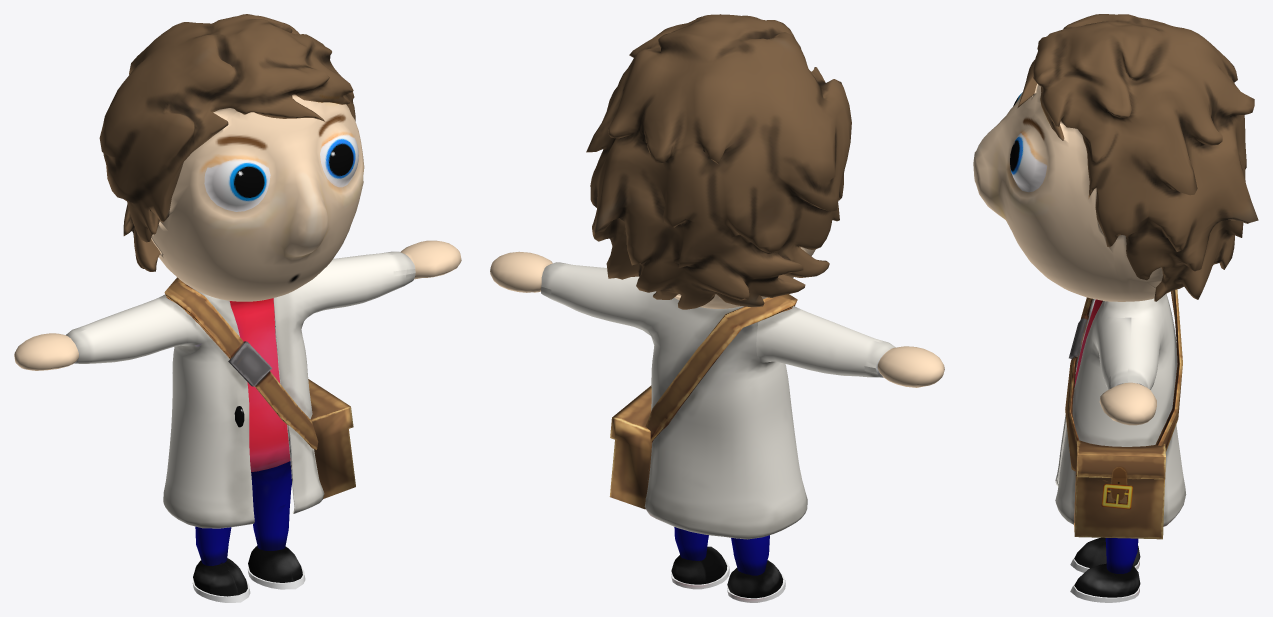
Rendered from Biologist_NewModel.fbx.
3 views of the same model, side by side, from view 1: azimuth 30°, elevation 25°; view 2: azimuth 150°, elevation 25°; view 3: azimuth 270°, elevation 25° (orthographic).
Visible parts, largest first — view 1: Biologist_NewModel.001, Strap, Satchel; view 2: Biologist_NewModel.001, Strap, Satchel; view 3: Biologist_NewModel.001, Satchel, Strap.
Boxes of the visible parts, x1,y1,x2,y2 form: Biologist_NewModel.001: (14,14,461,602); Strap: (164,277,318,449); Satchel: (308,379,355,498); Biologist_NewModel.001: (490,14,944,602); Strap: (645,294,797,442); Satchel: (609,385,652,509); Biologist_NewModel.001: (973,14,1258,602); Satchel: (1074,440,1165,539); Strap: (1065,289,1182,471).
Size of the model in its own units: 192 by 231 by 108.
